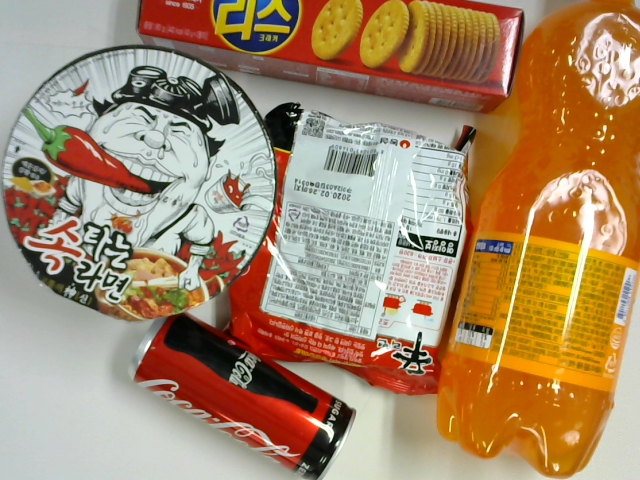Coca_Cola_Zero_Can_250ml: (129, 311, 359, 480)
HeJangsock: (1, 45, 277, 321)
Hwanta_Orange_1.5L: (434, 1, 640, 477)
Ritz_Cracker: (137, 1, 525, 115)
Sinramen: (221, 101, 477, 396)
